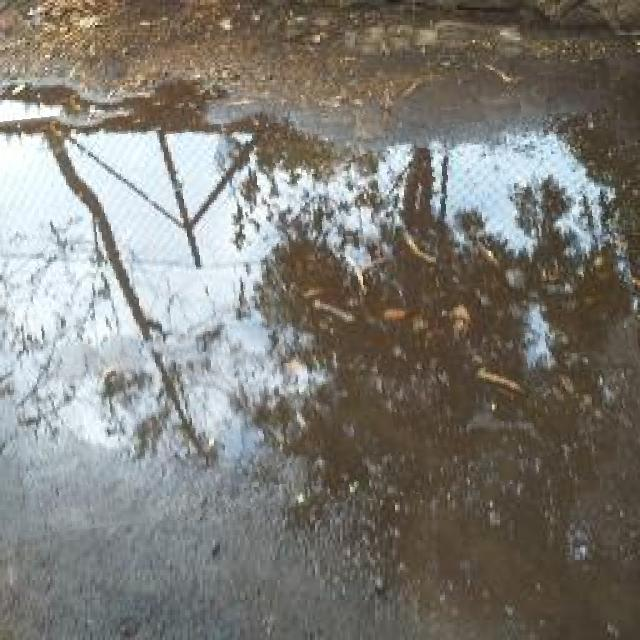puddle: (1, 75, 640, 520)
